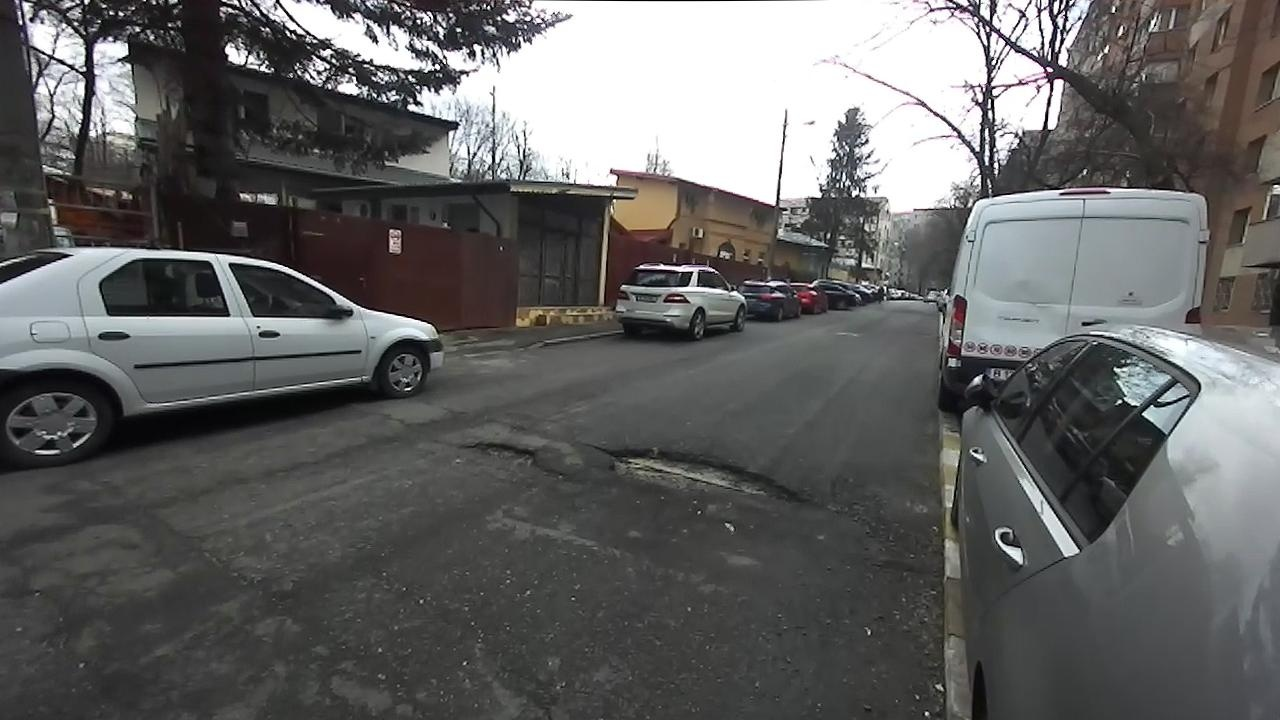pothole: (582, 438, 821, 508), (453, 437, 564, 478)
